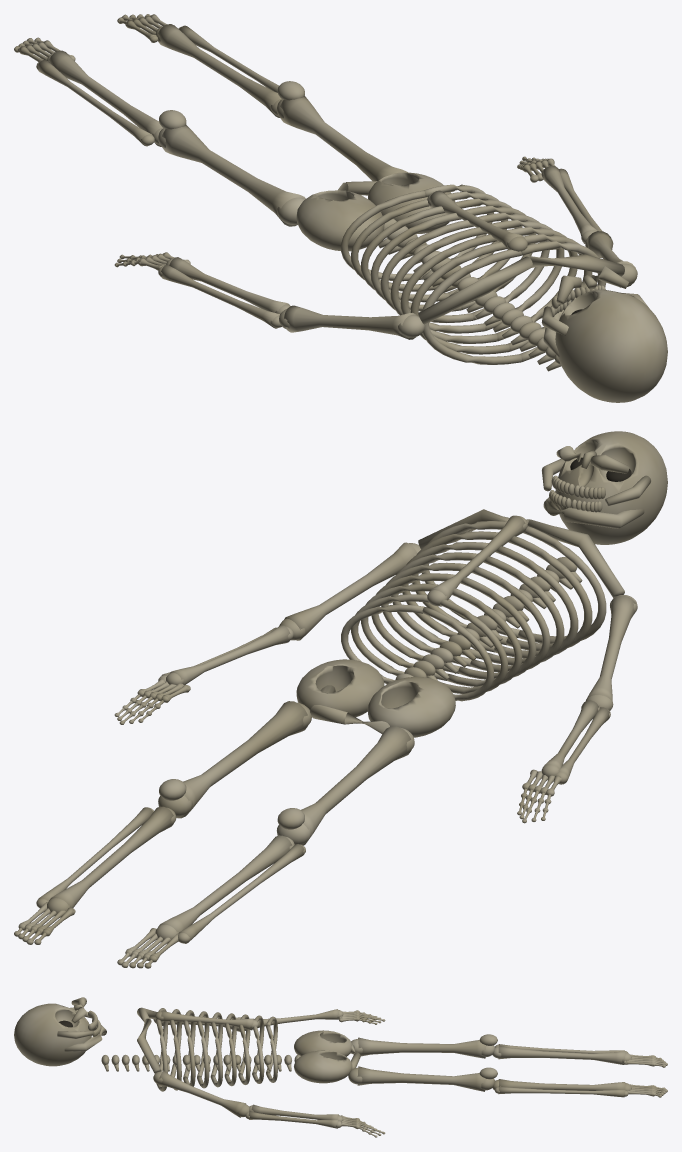
File: archive-remains.glb
3 renders of one model, top to bottom at view 1: azimuth 30°, elevation 25°; view 2: azimuth 150°, elevation 25°; view 3: azimuth 270°, elevation 25°, orthographic. The views are drawn at different scales.
Visible parts, largest first — view 1: WeatheredSkeleton; view 2: WeatheredSkeleton; view 3: WeatheredSkeleton.
Part boxes in pixels (bbox=[...]): WeatheredSkeleton: bbox=[14, 14, 667, 402]; WeatheredSkeleton: bbox=[14, 431, 667, 968]; WeatheredSkeleton: bbox=[14, 997, 667, 1137].
Size of the model in its own units: 0.8707 by 0.2691 by 2.
